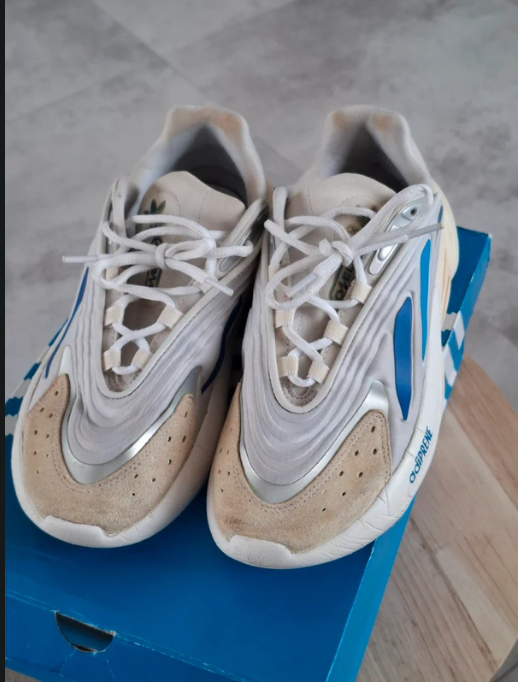adidas_ozelia_cream_blue: (200, 99, 475, 578), (3, 91, 266, 554)
